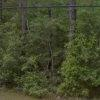Tree: (59, 25, 100, 89)
